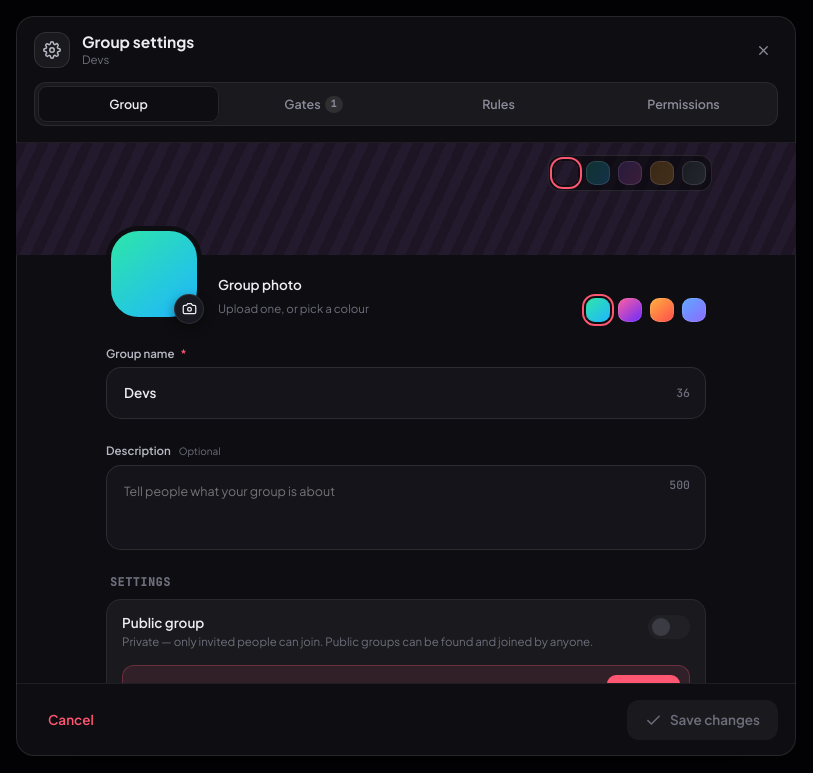
Test case: GroupSettingsDialog save › a gate missing its token or amount blocks Save and shows the Gates tab
Replace the text in the field with "Devs 2" at (393, 393), box [122,383,664,403]
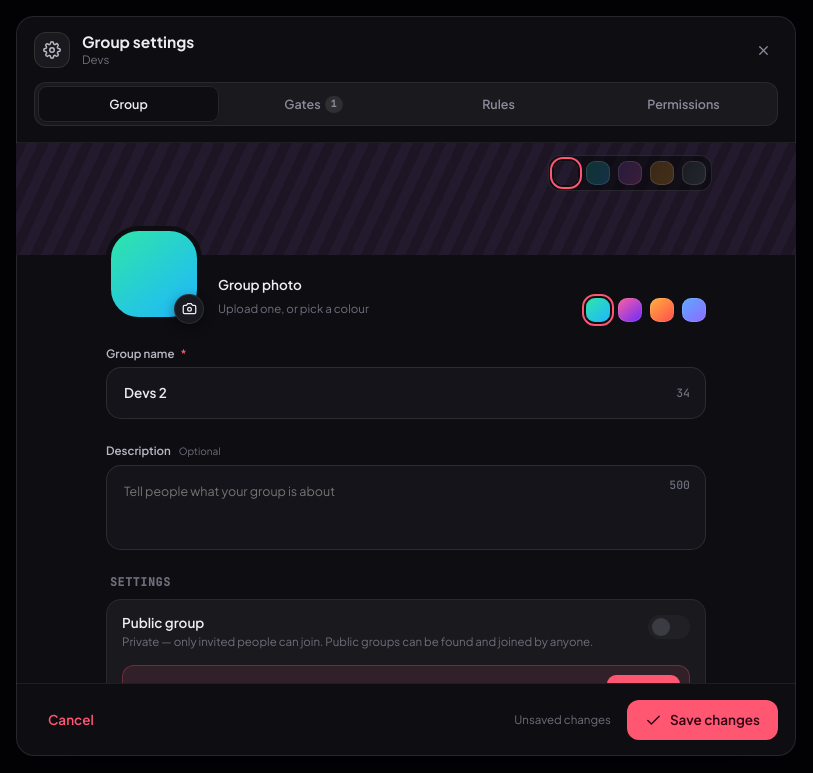
Click the button with class "save" at (702, 720), box [627,700,778,740]
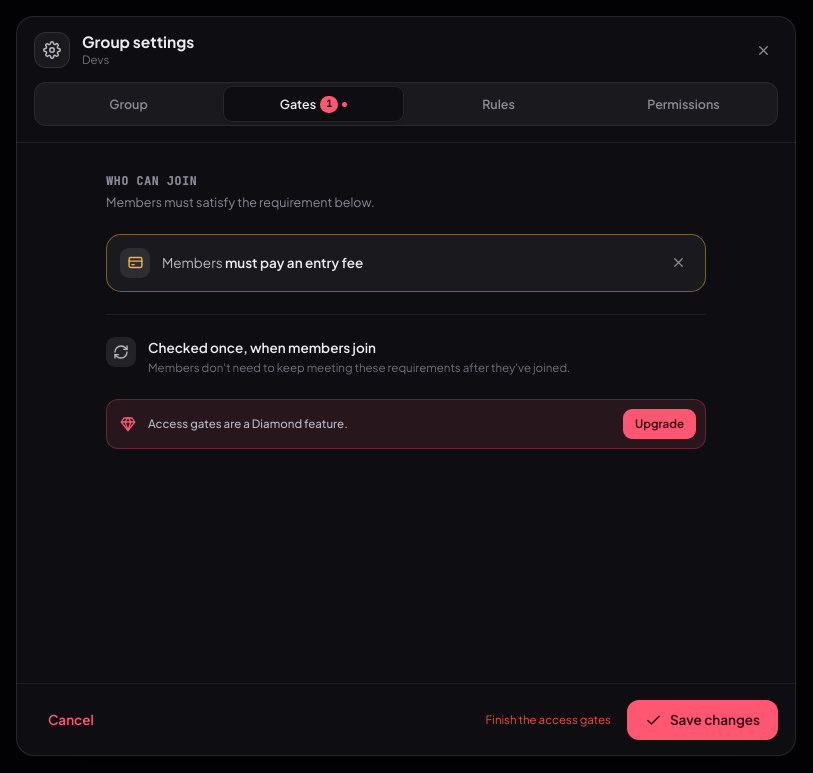
Expected: the tab "Gates 1" is shown, [223,86,404,122]
Now the text with class "error" reads "Finish the access gates", box [486,712,611,727]
